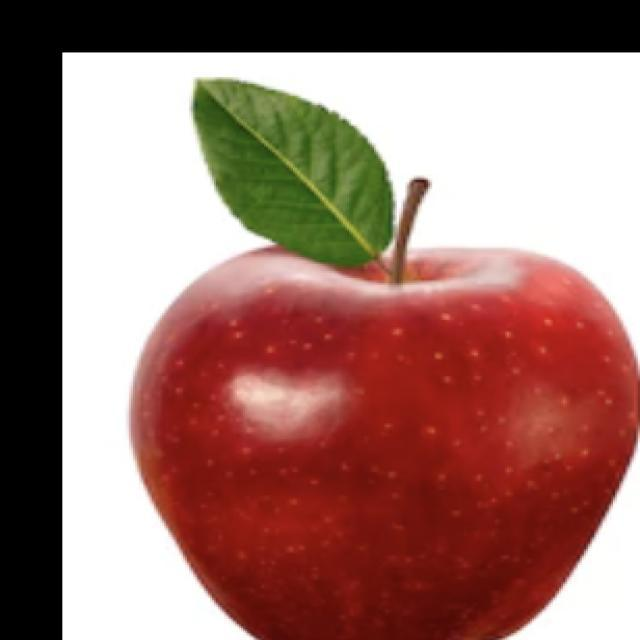Fresh Apple: (146, 241, 621, 640)
